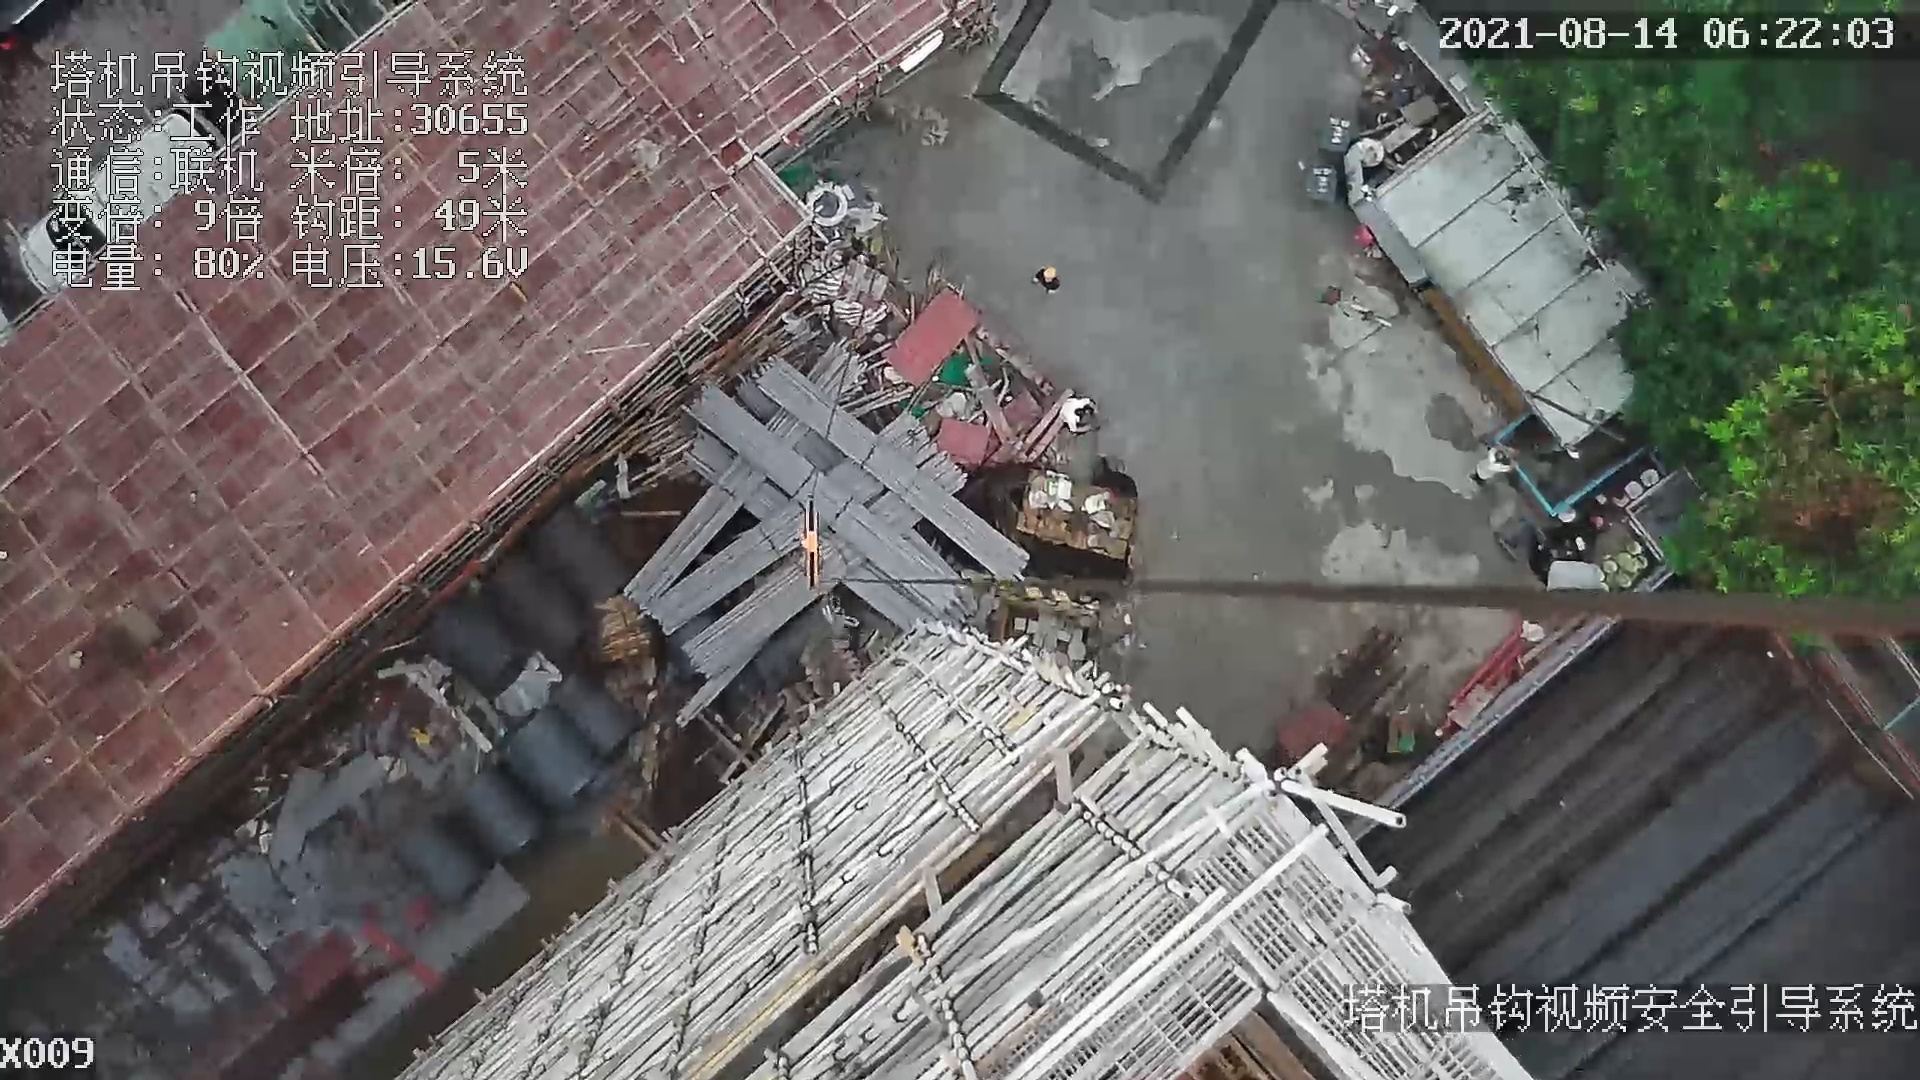helmet: (1043, 266, 1058, 278)
hook: (797, 499, 824, 596)
person: (1031, 259, 1065, 292)
